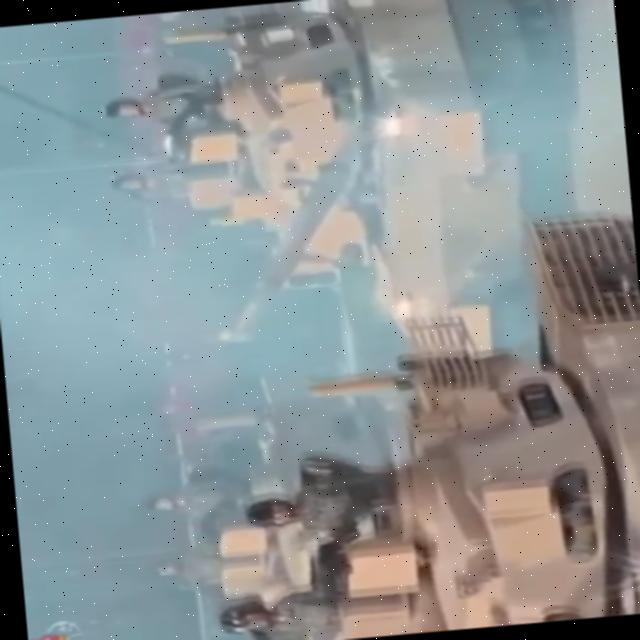north tank: (169, 0, 595, 374), (294, 200, 640, 636)
